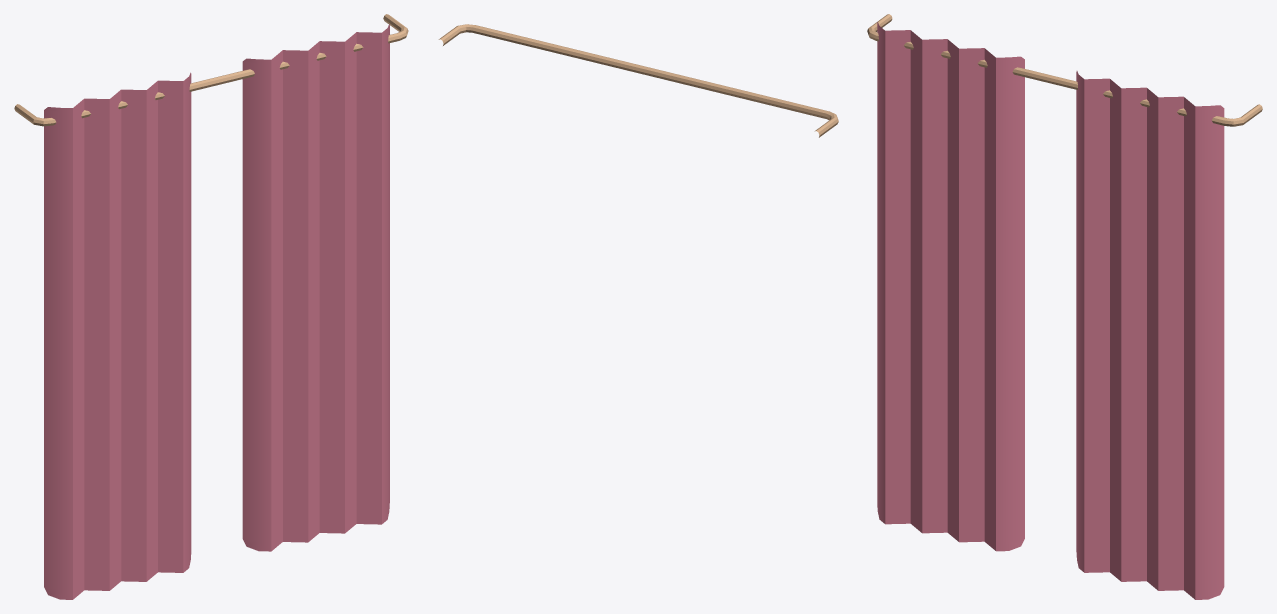
Rendered from curtains.glb.
The picture shows the model from 3 angles, left to right: view 1: azimuth 30°, elevation 25°; view 2: azimuth 150°, elevation 25°; view 3: azimuth 330°, elevation 25°; orthographic projection.
Parts seen in each view (by area): view 1: Curtains_Double; view 2: Curtains_Double; view 3: Curtains_Double.
Part boxes in pixels (left/top/right/bottom): Curtains_Double: left=14, top=14, right=408, bottom=599; Curtains_Double: left=438, top=24, right=838, bottom=137; Curtains_Double: left=867, top=14, right=1262, bottom=599.
Bounding box in the file's own units: 3.47 × 4.34 × 0.4763.
